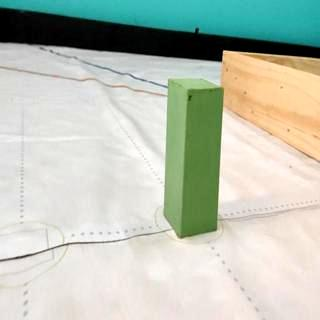greenbox: (162, 76, 225, 240)
